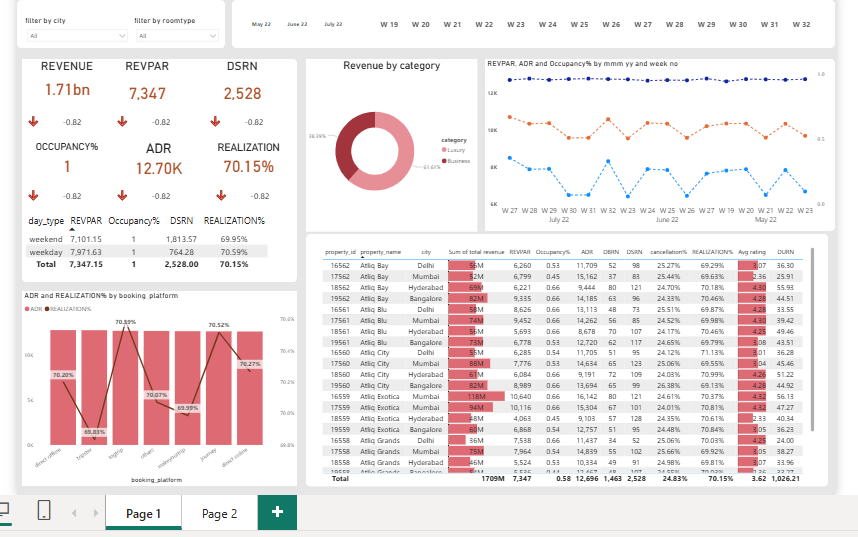

This screenshot's page, from the dashboard's own definition file:
{"tool":"powerbi","page":{"name":"Page 1","canvas":[1800,1100],"ordinal":0},"visuals":[{"type":"shape","box":[636,525.4,1148.9,555.6],"z":0},{"type":"shape","box":[11,140.8,605,490.6],"z":1000},{"type":"shape","box":[473,11,1326.6,105.6],"z":2000},{"type":"shape","box":[1029.6,140.8,770,378.4],"z":3000},{"type":"shape","box":[635.8,140.8,376.2,378.4],"z":4000},{"type":"slicer","title":"filter by year","fields":{"Values":["dim_date.mmm yy"]},"box":[473,26.4,286,72.6],"z":5000},{"type":"shape","box":[0,10.1,457.5,105.6],"z":6000},{"type":"tableEx","fields":{"Values":["dim_hotels.property_id","dim_hotels.property_name","dim_hotels.city","Sum(fact_booking.total revenue)","fact_aggregated_bookings.REVPAR","fact_aggregated_bookings.Occupancy%","fact_booking.ADR","dim_date.DBRN(DAILYBOOKEDROOMNIGHTS)","dim_date.DSRN(dailysellableroomnights)","fact_booking.cancellation%","fact_booking.REALIZATION%","fact_booking.Avg rating"]},"box":[666.6,550,1093.4,530.2],"z":7000},{"type":"slicer","title":"filter by city","fields":{"Values":["dim_hotels.city"]},"box":[12.6,45.3,241.3,70.4],"z":8000},{"type":"slicer","title":"filter by roomtype","fields":{"Values":["dim_rooms.room_class"]},"box":[253.9,45.3,201.1,70.4],"z":9000},{"type":"slicer","fields":{"Values":["dim_date.week no"]},"box":[759,26.4,1025.2,72.6],"z":10000},{"type":"card","title":"REVENUE","fields":{"Values":["key measures.Revenue"]},"box":[11,140.8,198,99],"z":11000},{"type":"tableEx","fields":{"Values":["fact_booking.Revenue WoW change %"]},"box":[13.2,239.8,195.8,66],"z":12000},{"type":"donutChart","fields":{"Category":["dim_hotels.category"],"Y":["key measures.Revenue"]},"box":[636,140.8,377.1,379.6],"z":13000},{"type":"card","title":"REVPAR","fields":{"Values":["fact_aggregated_bookings.REVPAR"]},"box":[186,140.8,198.6,115.6],"z":14000},{"type":"tableEx","fields":{"Values":["fact_booking.Revenue WoW change %"]},"box":[13.2,402.6,195.8,70.4],"z":15000},{"type":"tableEx","fields":{"Values":["fact_booking.Revenue WoW change %"]},"box":[209,239.8,176,66],"z":16000},{"type":"tableEx","fields":{"Values":["fact_booking.Revenue WoW change %"]},"box":[413.6,239.8,191.4,66],"z":17000},{"type":"card","title":"ADR","fields":{"Values":["fact_booking.ADR"]},"box":[209,321.2,204.6,81.4],"z":18000},{"type":"card","title":"OCCUPANCY%","fields":{"Values":["fact_aggregated_bookings.Occupancy%"]},"box":[11,321.2,198,81.4],"z":19000},{"type":"tableEx","fields":{"Values":["fact_booking.Revenue WoW change %"]},"box":[209,402.6,176,70.4],"z":20000},{"type":"tableEx","title":"% values in bottom are week on week change","fields":{"Values":["dim_date.day_type","fact_aggregated_bookings.REVPAR","fact_aggregated_bookings.Occupancy%","dim_date.DSRN","fact_booking.REALIZATION%"]},"box":[13.2,475.2,591.8,138.6],"z":21000},{"type":"lineChart","fields":{"Y":["fact_aggregated_bookings.REVPAR","fact_booking.ADR"],"Category":["dim_date.mmm yy","dim_date.week no"],"Y2":["fact_aggregated_bookings.Occupancy%"]},"box":[1029.6,140.8,754.6,378.4],"z":22000},{"type":"lineStackedColumnComboChart","fields":{"Category":["fact_booking.booking_platform"],"Y":["fact_booking.ADR"],"Y2":["fact_booking.REALIZATION%"]},"box":[11,651.2,605,429],"z":23000},{"type":"card","title":"REALIZATION","fields":{"Values":["fact_booking.REALIZATION%"]},"box":[413.6,321.2,191.4,81.4],"z":24000},{"type":"pivotTable","fields":{"Values":["fact_booking.Revenue WoW change %"]},"box":[413.6,402.6,191.4,70.4],"z":25000},{"type":"card","title":"DSRN","fields":{"Values":["dim_date.DSRN"]},"box":[384.6,140.8,221.2,115.6],"z":26000}]}

Visuals, with their boxes on the page's 1800x1100 design canvas (x1, y1, x2, y2). These are canvas units, not pixel positions in the 858x537 screenshot, which may show the page scaled, cropped or inside an application window:
shape: region(636, 525, 1785, 1081)
shape: region(11, 141, 616, 631)
shape: region(473, 11, 1800, 117)
shape: region(1030, 141, 1800, 519)
shape: region(636, 141, 1012, 519)
"filter by year" slicer: region(473, 26, 759, 99)
shape: region(0, 10, 458, 116)
tableEx - dim_hotels.property_id x dim_hotels.property_name: region(667, 550, 1760, 1080)
"filter by city" slicer: region(13, 45, 254, 116)
"filter by roomtype" slicer: region(254, 45, 455, 116)
slicer - dim_date.week no: region(759, 26, 1784, 99)
"REVENUE" card: region(11, 141, 209, 240)
tableEx - fact_booking.Revenue WoW change %: region(13, 240, 209, 306)
donutChart - dim_hotels.category x key measures.Revenue: region(636, 141, 1013, 520)
"REVPAR" card: region(186, 141, 385, 256)
tableEx - fact_booking.Revenue WoW change %: region(13, 403, 209, 473)
tableEx - fact_booking.Revenue WoW change %: region(209, 240, 385, 306)
tableEx - fact_booking.Revenue WoW change %: region(414, 240, 605, 306)
"ADR" card: region(209, 321, 414, 403)
"OCCUPANCY%" card: region(11, 321, 209, 403)
tableEx - fact_booking.Revenue WoW change %: region(209, 403, 385, 473)
"% values in bottom are week on week change" tableEx: region(13, 475, 605, 614)
lineChart - fact_aggregated_bookings.REVPAR x fact_booking.ADR: region(1030, 141, 1784, 519)
lineStackedColumnComboChart - fact_booking.booking_platform x fact_booking.ADR: region(11, 651, 616, 1080)
"REALIZATION" card: region(414, 321, 605, 403)
pivotTable - fact_booking.Revenue WoW change %: region(414, 403, 605, 473)
"DSRN" card: region(385, 141, 606, 256)
